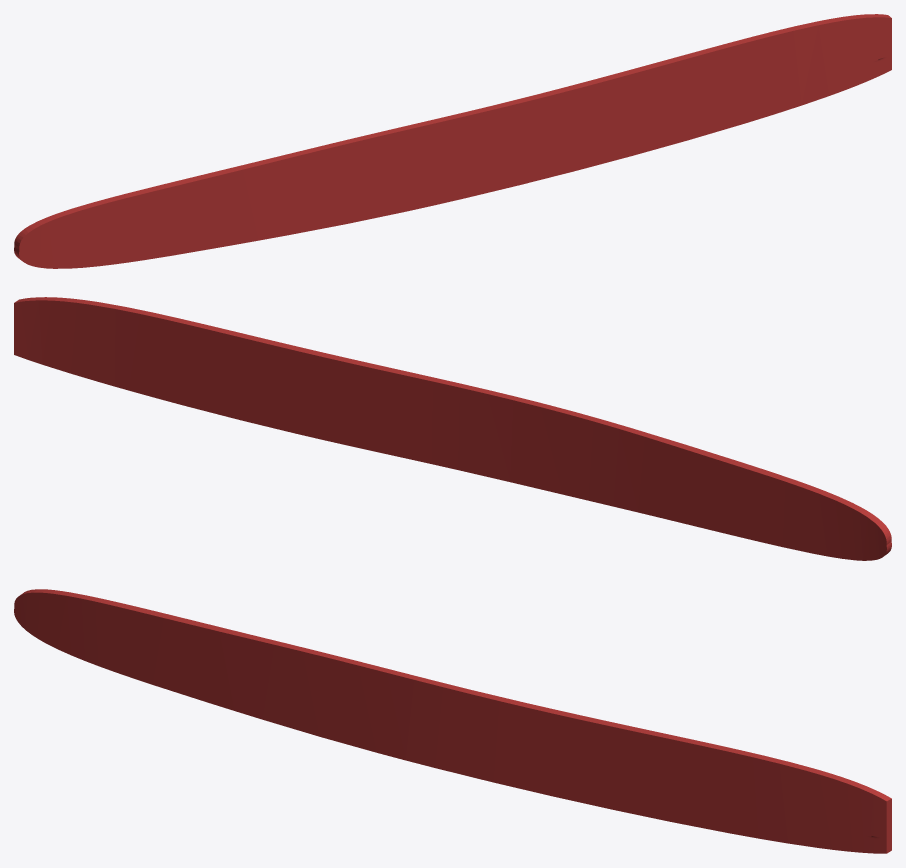
The model's file is starboard.dae.
3 views of the same model, one above another, from view 1: azimuth 30°, elevation 25°; view 2: azimuth 150°, elevation 25°; view 3: azimuth 330°, elevation 25° (orthographic).
Parts seen in each view (by area): view 1: starboard_hull_cover; view 2: starboard_hull_cover; view 3: starboard_hull_cover.
Part boxes in pixels (<box>): starboard_hull_cover: <box>14,14,891,268</box>; starboard_hull_cover: <box>14,297,891,560</box>; starboard_hull_cover: <box>14,589,891,853</box>.
Size of the model in its own units: 5.21 by 0.1993 by 0.4792.
Materials: 1 (1 with a texture image).
